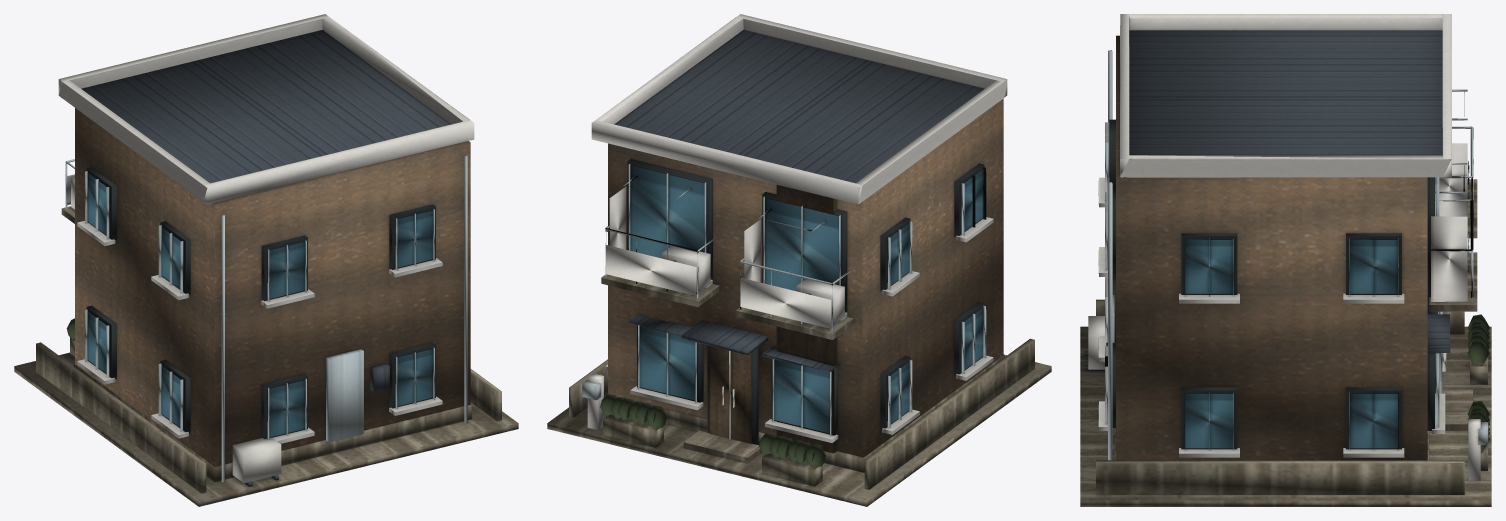
Rendered from residential_014.obj.
3 views of the same model, side by side, from view 1: azimuth 30°, elevation 25°; view 2: azimuth 150°, elevation 25°; view 3: azimuth 270°, elevation 25° (orthographic). The views are drawn at different scales.
Parts seen in each view (by area): view 1: residential_014; view 2: residential_014; view 3: residential_014.
Boxes of the visible parts, x1=… form: residential_014: x1=14, y1=14, x2=518, y2=506; residential_014: x1=547, y1=14, x2=1051, y2=506; residential_014: x1=1080, y1=14, x2=1491, y2=506.
Bounding box in the file's own units: 7.25 × 6.49 × 7.25.
Materials: 1 (1 with a texture image).
